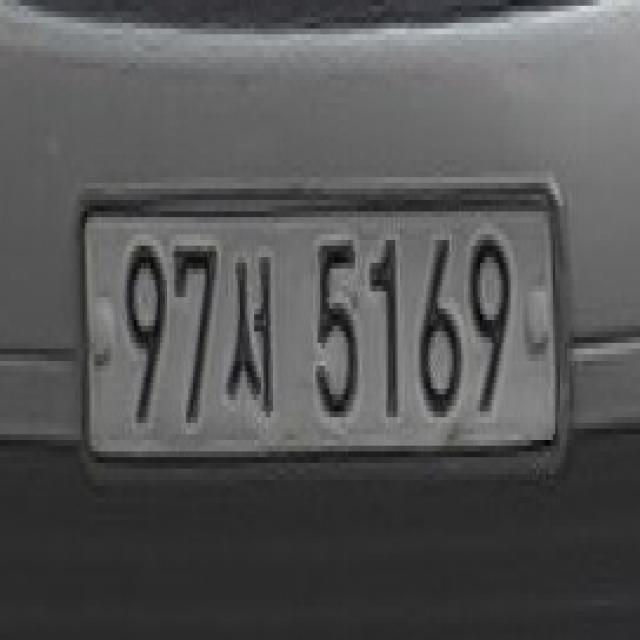1: (366, 230, 410, 434)
5: (310, 228, 360, 432)
6: (414, 224, 463, 426)
7: (170, 233, 218, 428)
9: (466, 220, 514, 420), (120, 236, 168, 429)
license_plate: (89, 198, 561, 465)
seo: (223, 240, 278, 420)
